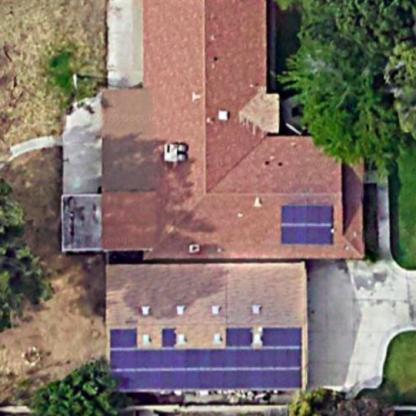solar_panel: (97, 322, 310, 395), (275, 198, 340, 254)
